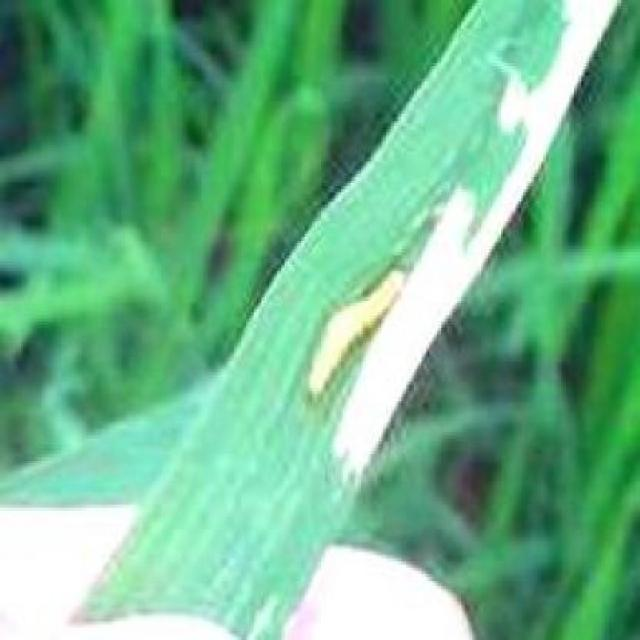leaf-folder: (295, 254, 423, 415)
